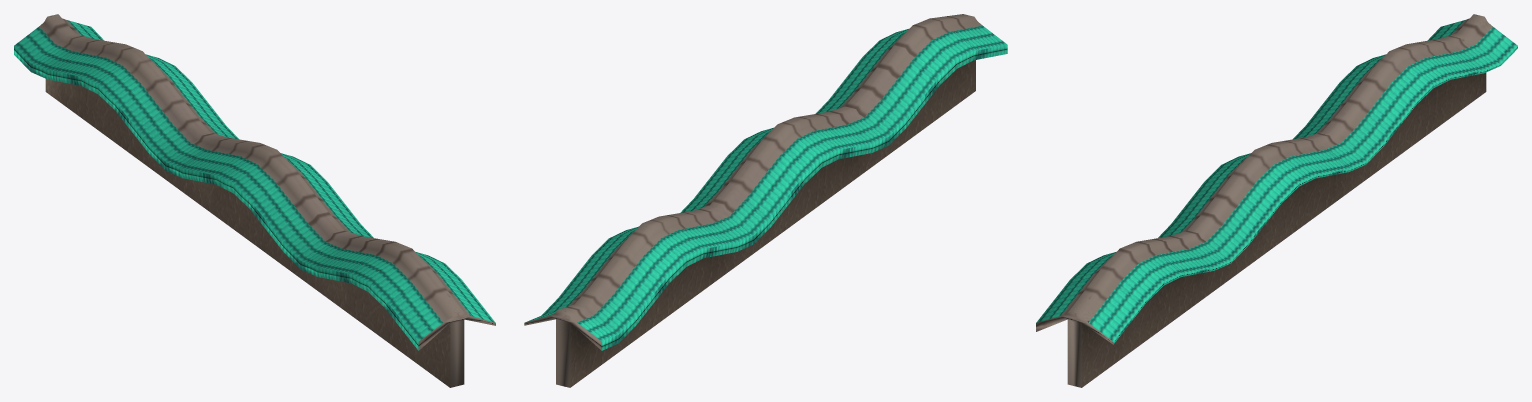
Rendered from Wall01.fbx.
3 renders of one model, left to right at view 1: azimuth 30°, elevation 25°; view 2: azimuth 150°, elevation 25°; view 3: azimuth 330°, elevation 25°, orthographic.
Visible parts, largest first — view 1: Wall; view 2: Wall; view 3: Wall.
Boxes of the visible parts, x1,y1,x2,y2 form: Wall: [14, 14, 495, 387]; Wall: [524, 14, 1007, 387]; Wall: [1036, 14, 1517, 387].
Size of the model in its own units: 7.2 by 8.84 by 65.28.
